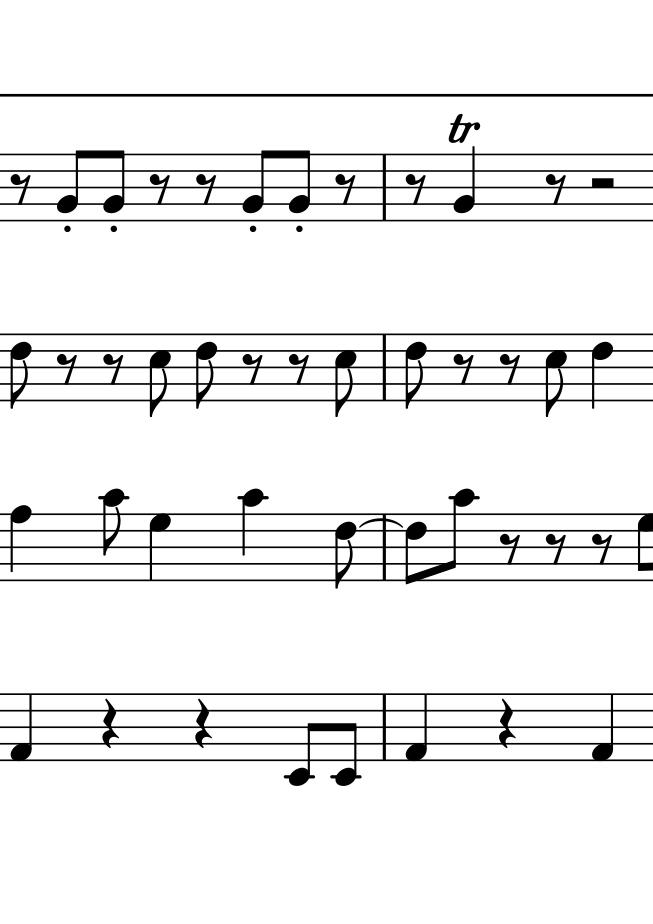4_1: (403, 693, 429, 764), (9, 693, 34, 764), (590, 693, 615, 764)
4_2: (452, 145, 478, 223)
4_6: (590, 332, 614, 410)
4_7: (147, 512, 172, 582)
4_8: (8, 503, 32, 584)
8_-2: (284, 692, 319, 786), (330, 691, 361, 787)
8_10: (441, 487, 474, 583), (101, 487, 127, 583), (240, 488, 265, 586)
8_2: (55, 149, 87, 221), (241, 149, 272, 221), (101, 149, 126, 222), (287, 149, 312, 222)
8_5: (147, 332, 172, 418), (333, 332, 358, 417), (543, 333, 568, 417)
8_6: (403, 332, 429, 409), (333, 512, 358, 590), (194, 332, 219, 409), (9, 332, 33, 409), (403, 511, 427, 587)
Rests2: (587, 176, 618, 192)
Rests4: (496, 697, 518, 751), (99, 698, 120, 751), (192, 698, 213, 751)
Rests8: (10, 171, 34, 206), (404, 171, 428, 206), (334, 172, 358, 206), (195, 171, 218, 206), (56, 351, 79, 385), (241, 351, 264, 385), (499, 531, 521, 566), (148, 172, 171, 205), (102, 351, 124, 385), (288, 351, 310, 385), (453, 351, 475, 385), (499, 351, 521, 385), (544, 531, 566, 565), (545, 173, 567, 206), (591, 531, 613, 564)
Single_barline: (376, 691, 396, 764), (377, 333, 394, 400), (376, 154, 393, 219), (377, 514, 393, 580)
Slur: (361, 518, 403, 530)
Trill: (446, 110, 478, 146)
